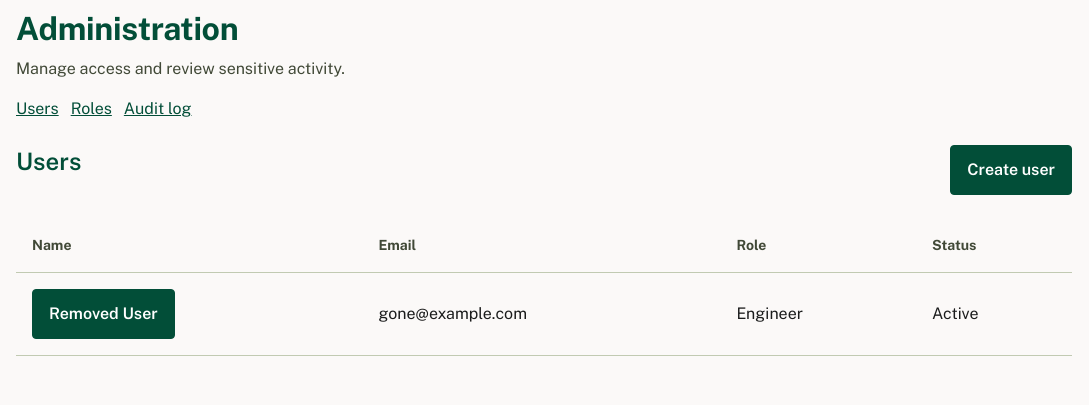
Test case: administration › reports missing user detail and does not open an edit form
The image size is (1089, 405).
Click the button "Removed User" at (103, 314), box 32,289 -> 175,339
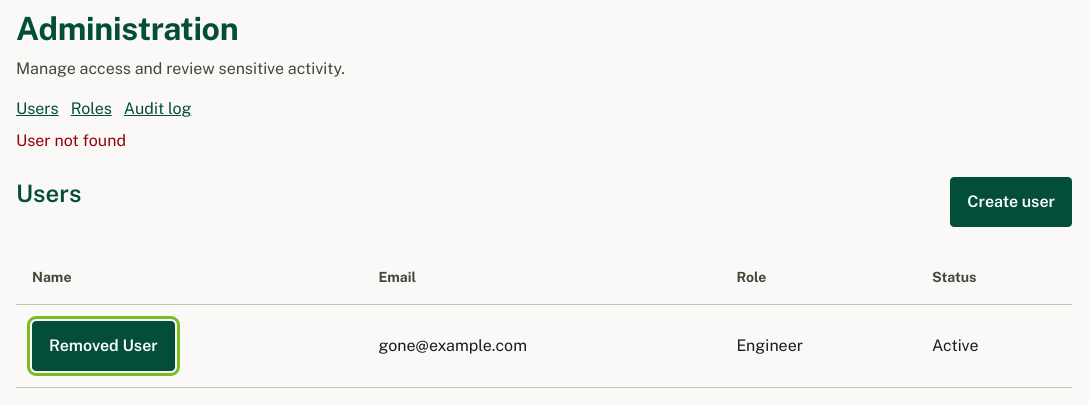
Check: the message reads "User not found", box 16,131 -> 126,150
